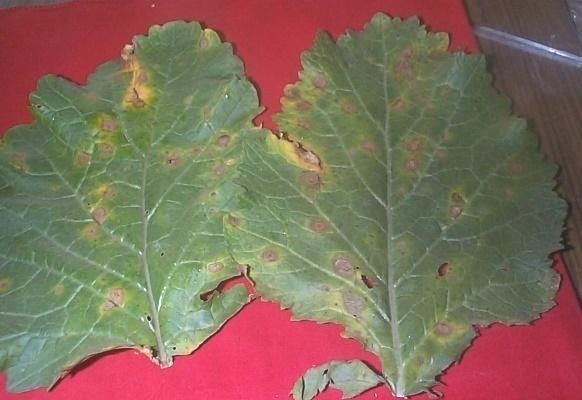Mustard_AlteriaLeafSpot: (232, 11, 572, 386), (1, 18, 267, 393)
